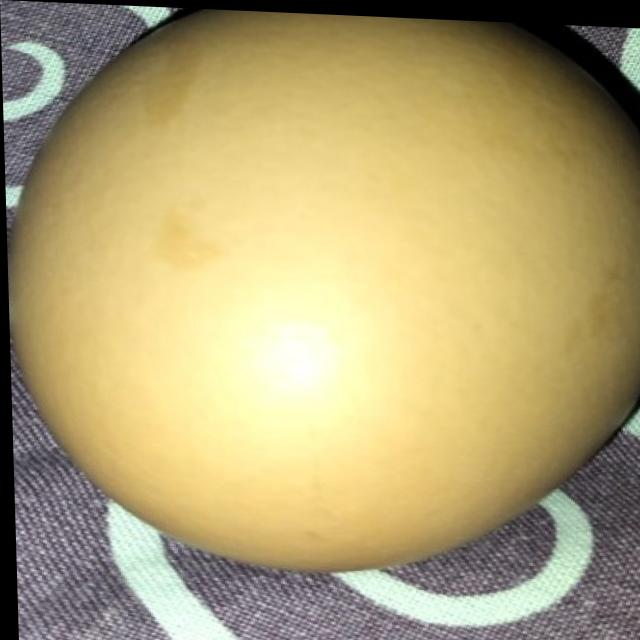fresh: (0, 0, 640, 581)
